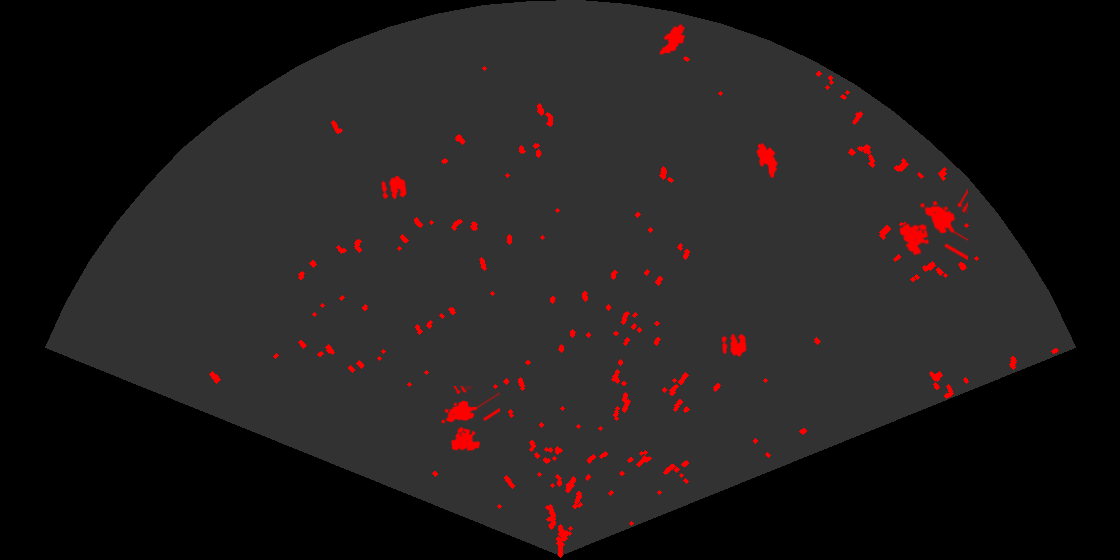AUV: (658, 23, 687, 57), (755, 141, 779, 180)
ball: (380, 174, 408, 201), (720, 332, 748, 358)
cage: (898, 187, 968, 262), (440, 386, 500, 453)
